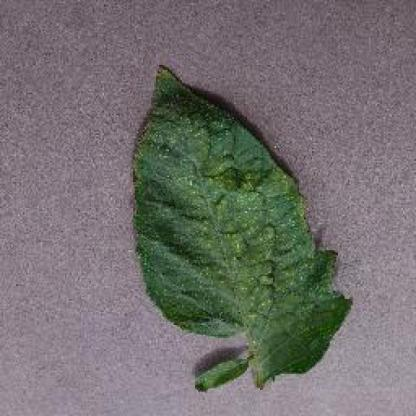Tomato_Spider_Mites: (132, 67, 352, 383)
